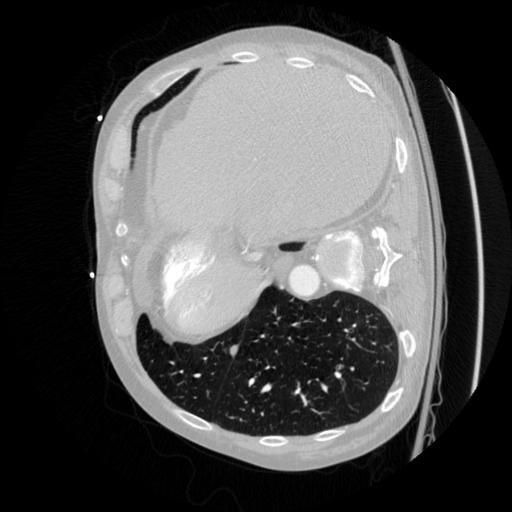nodule: (227, 342, 242, 357)
